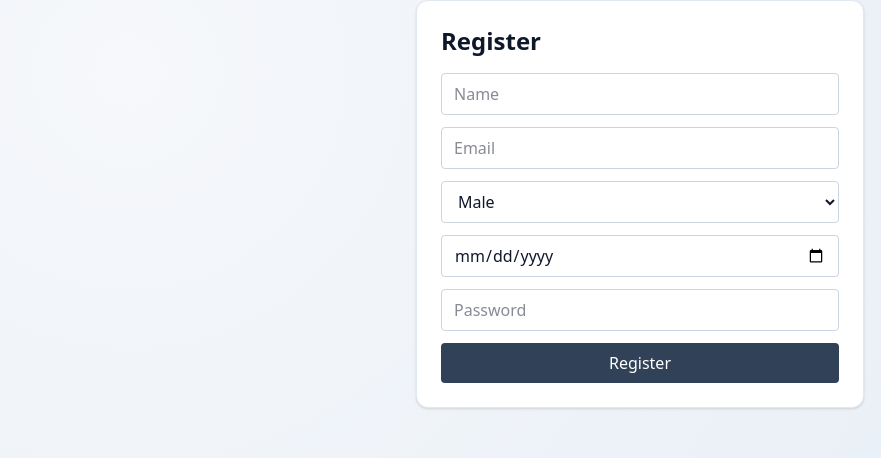
RegisterPage › shows a registration error without navigating away
Type "Taylor User" into the field with placeholder "Name" at (640, 94), box [441,73,839,115]
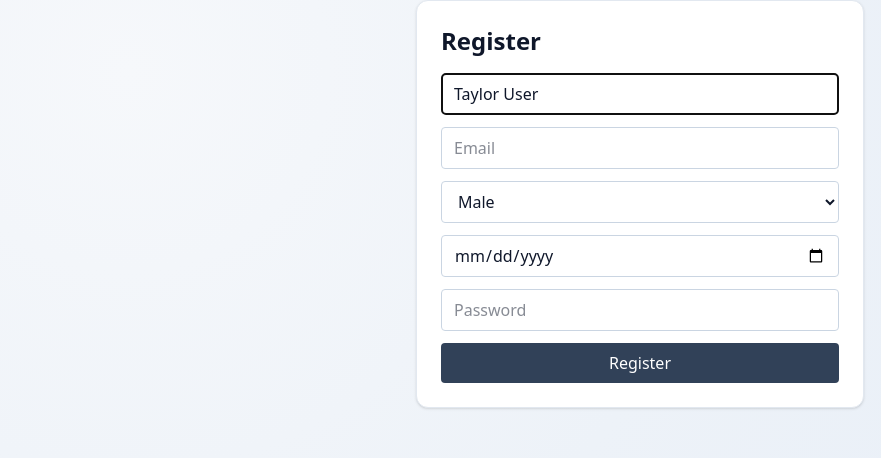
Type "taylor@example.com" into the field with placeholder "Email" at (640, 148), box [441,127,839,169]
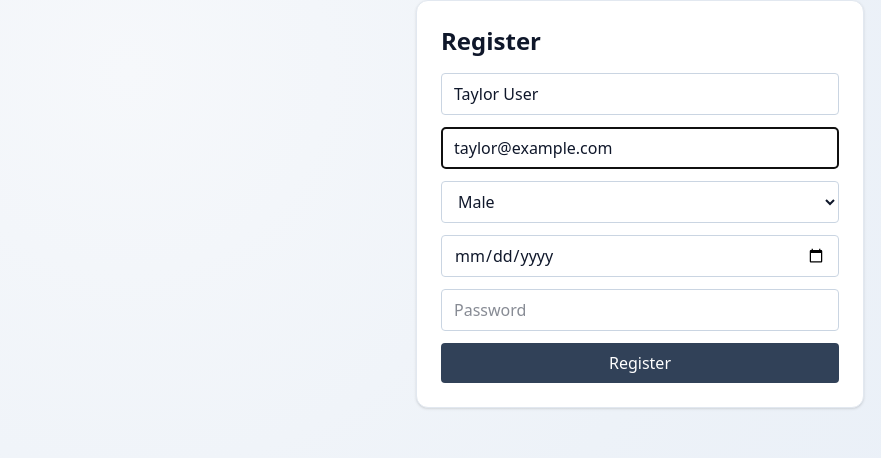
Type "1995-07-04" into the date field at (640, 256), box [441,235,839,277]
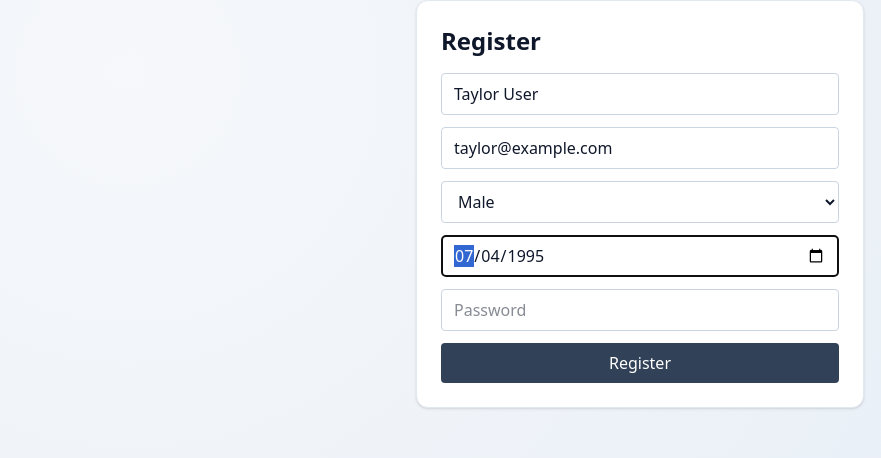
Type "supersecret" into the password field with placeholder "Password" at (640, 310), box [441,289,839,331]
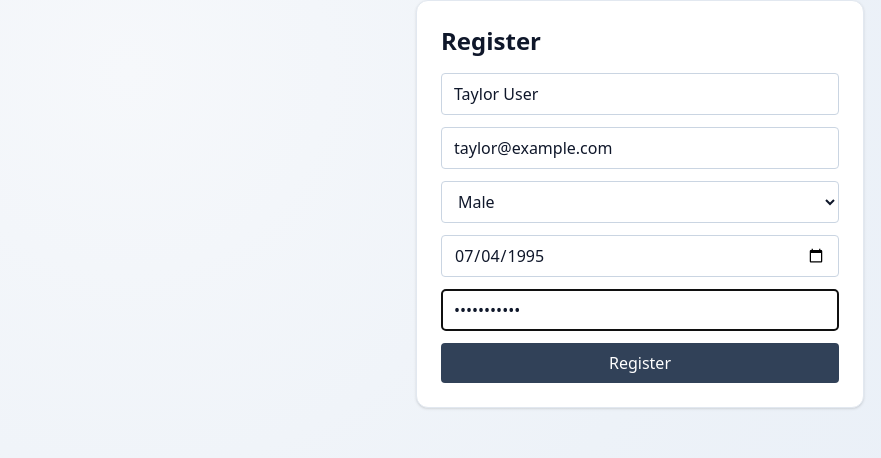
Click the button "Register" at (640, 363), box [441,343,839,383]
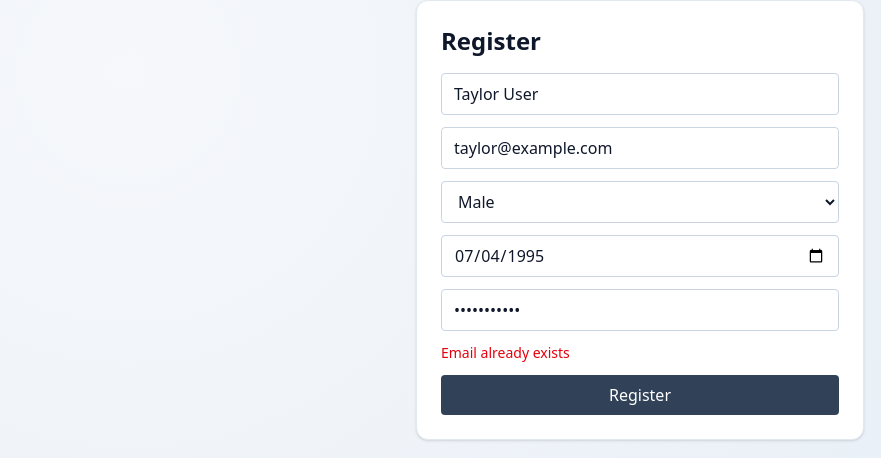
Now the text "Email already exists" is shown, box [441,343,570,362]
